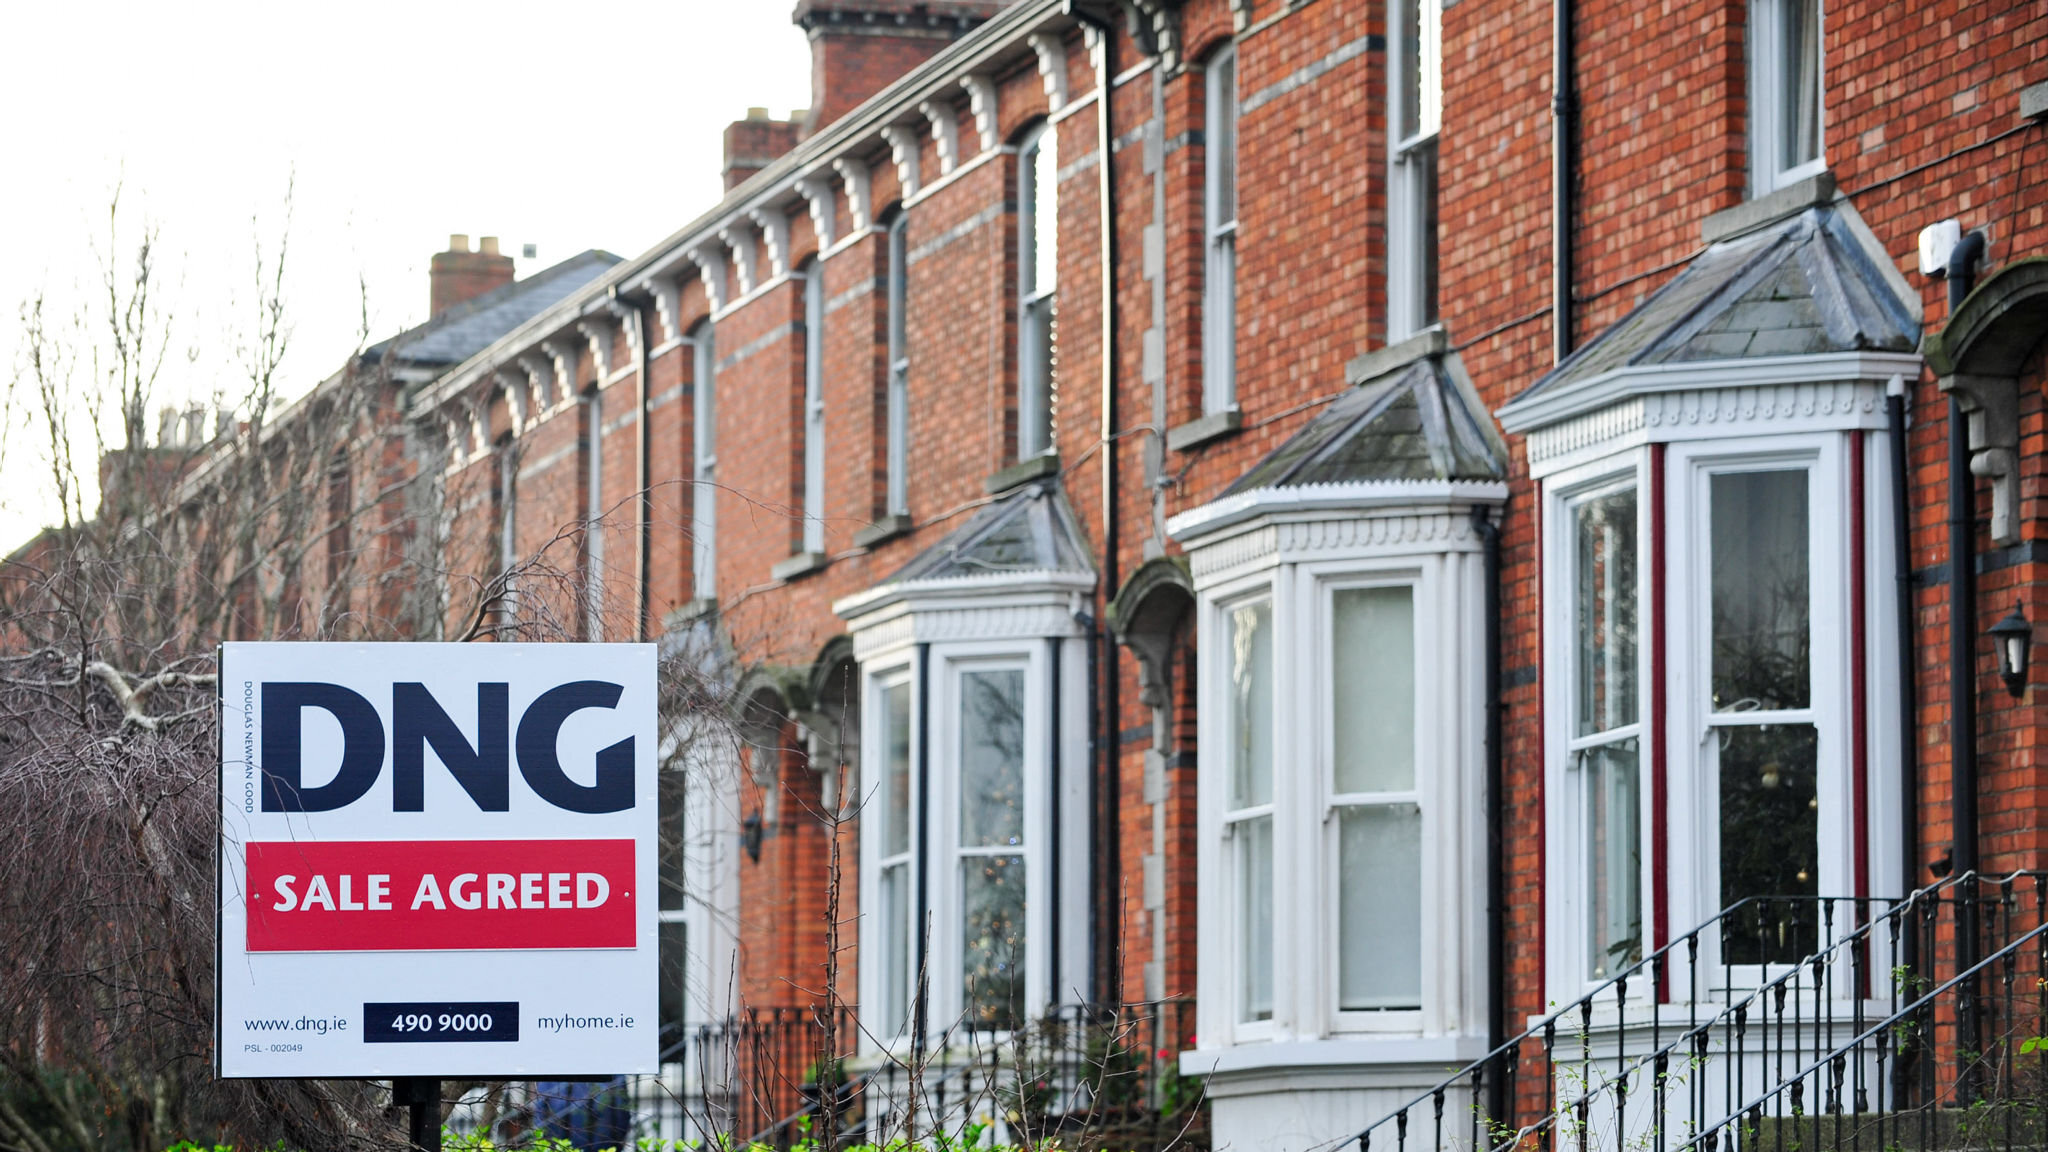property sign: (186, 596, 703, 1108)
